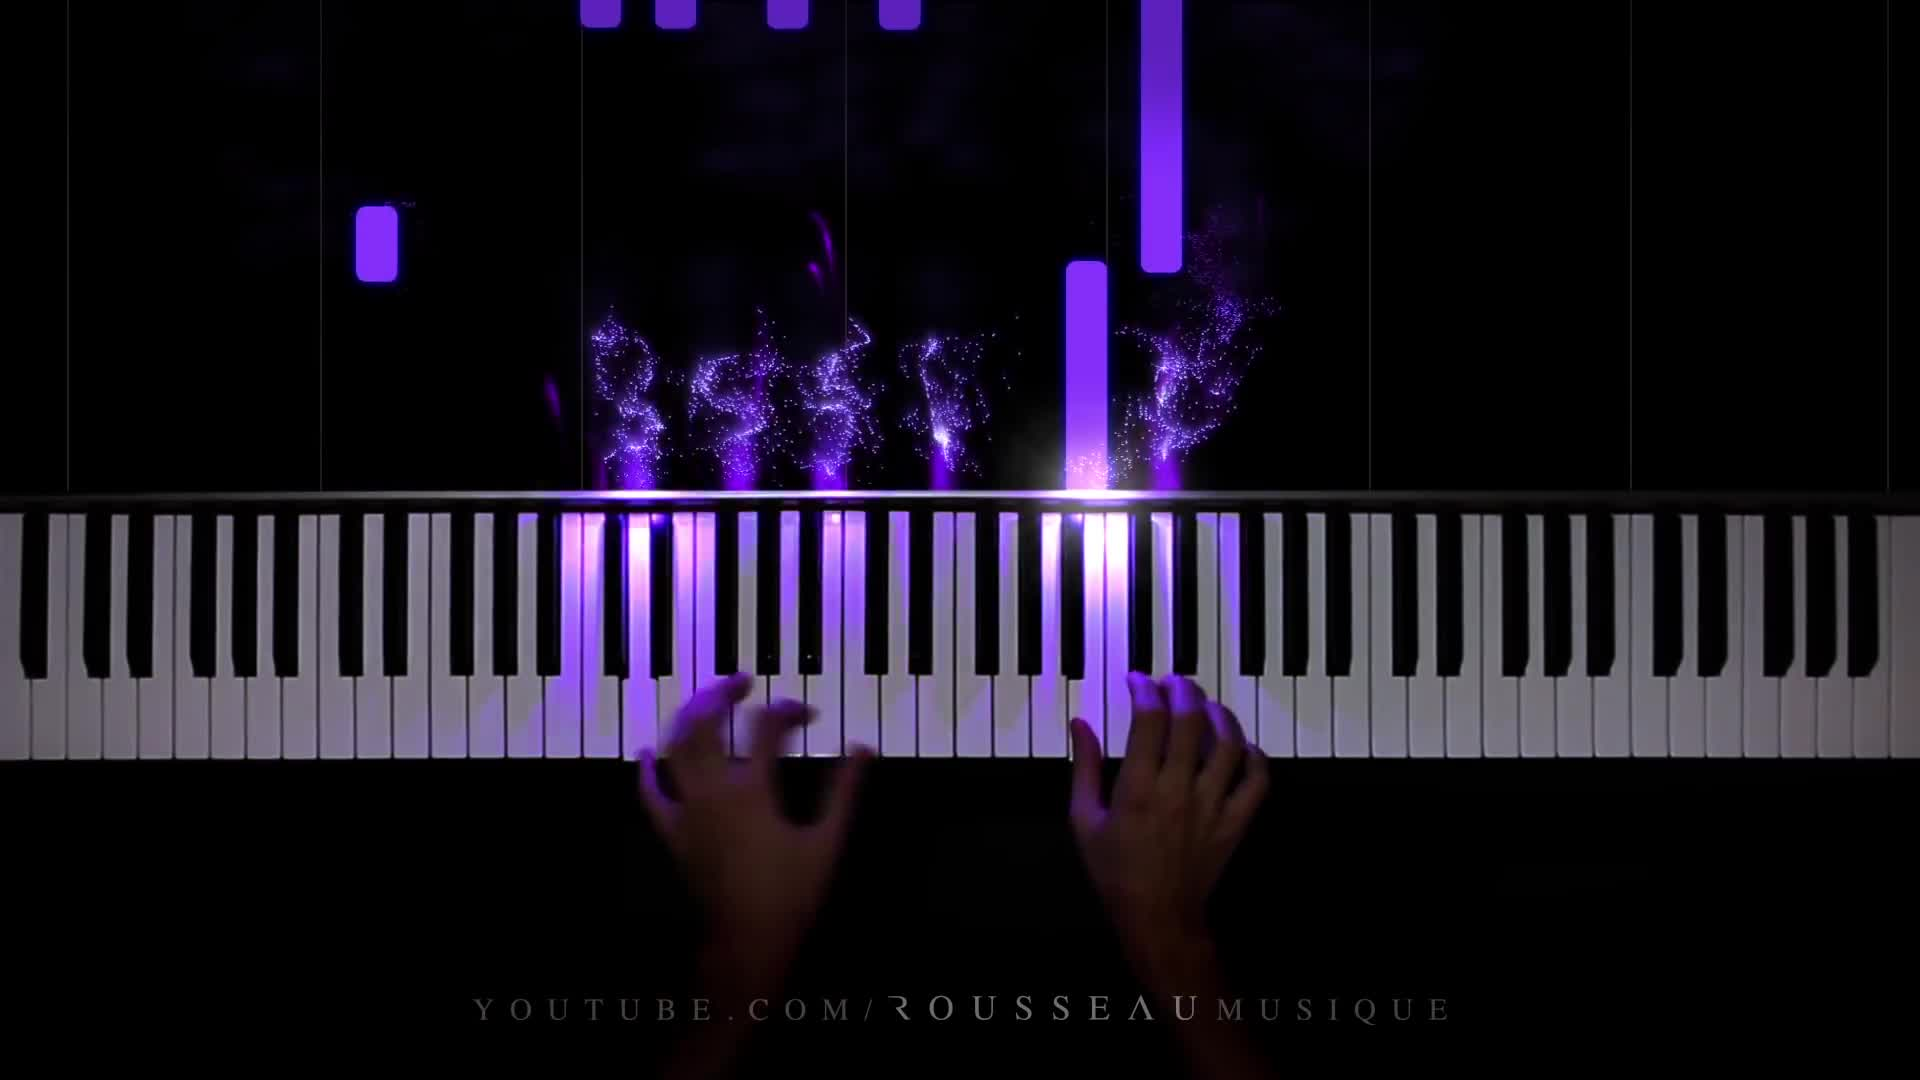left: (633, 665, 876, 922)
right: (1063, 670, 1267, 914)
